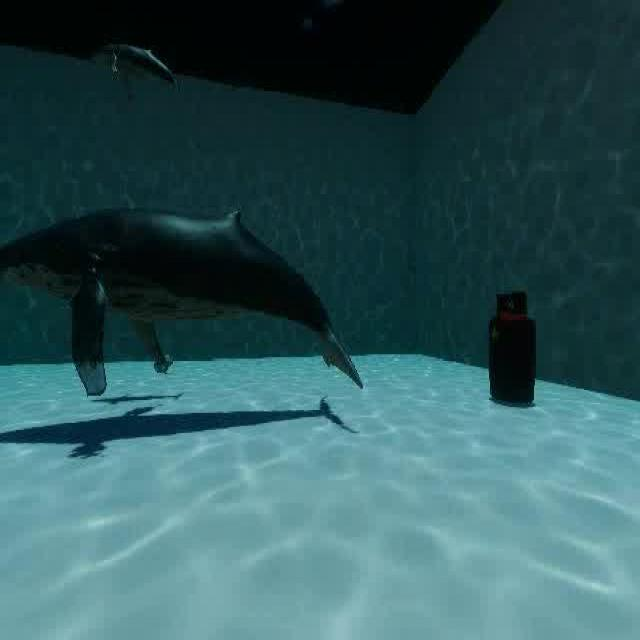Cylinder: (479, 274, 546, 420)
Shell: (149, 348, 182, 374)
Whale: (0, 193, 369, 407), (74, 32, 186, 110)
